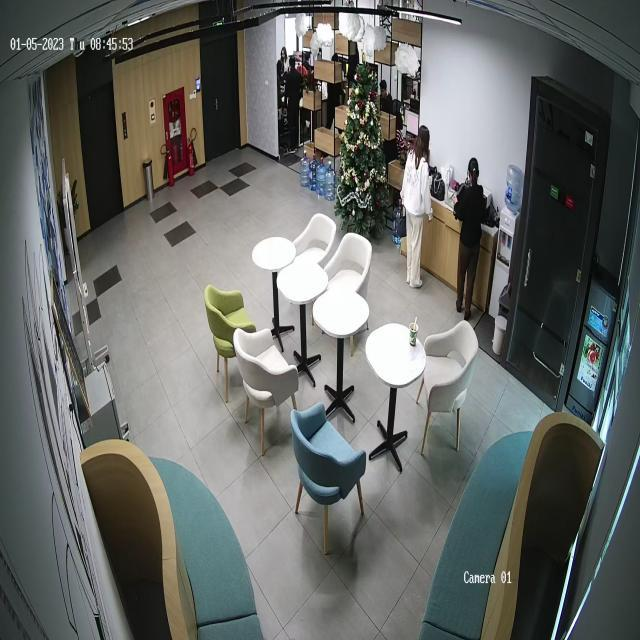person: (453, 158, 488, 320), (400, 124, 433, 291), (286, 55, 306, 153), (325, 53, 344, 124), (277, 45, 289, 125), (379, 80, 394, 114)
